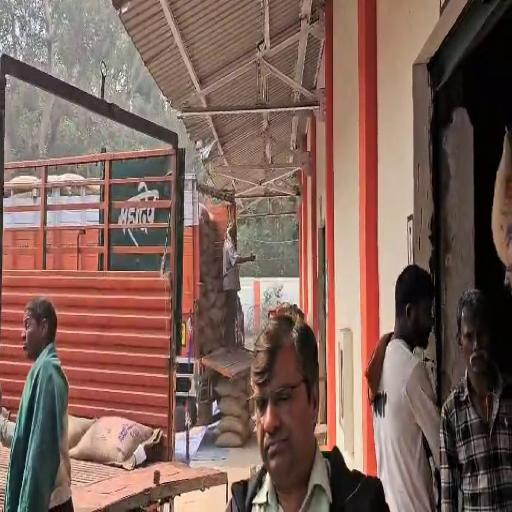bag: (71, 413, 160, 467)
